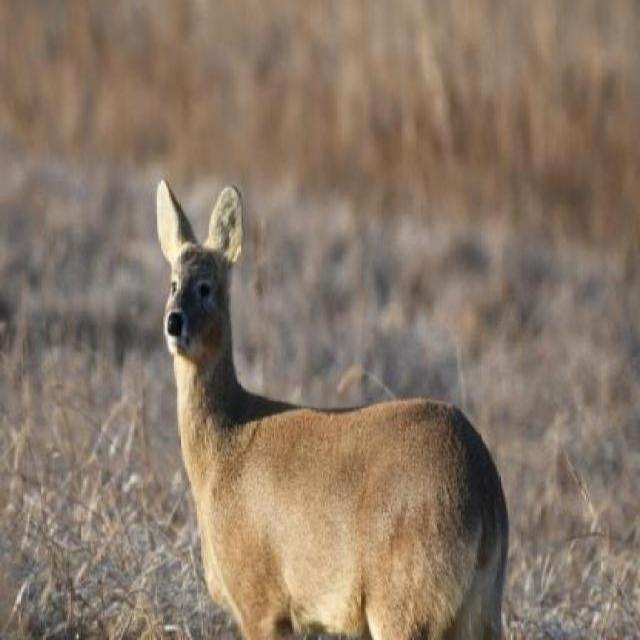deer: (144, 169, 526, 639)
